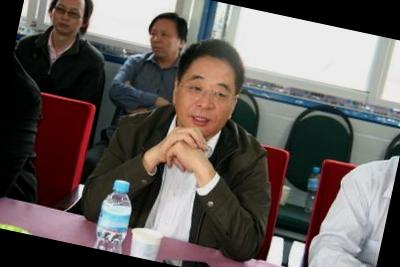no_helmet: (172, 33, 253, 134), (139, 4, 196, 69), (39, 0, 100, 47)
